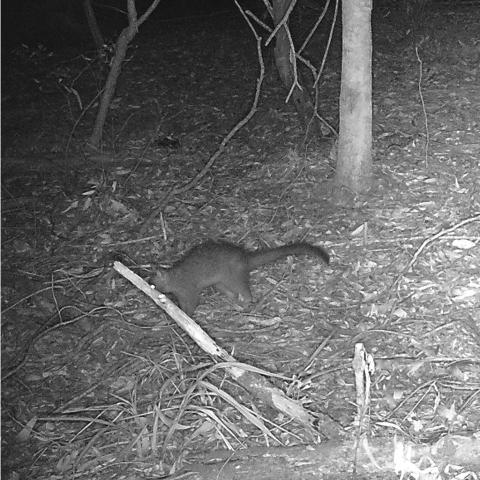small_animal: (147, 237, 331, 318), (153, 132, 182, 149)
